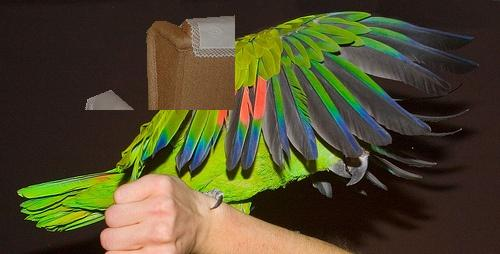tampered: (86, 16, 235, 110)
